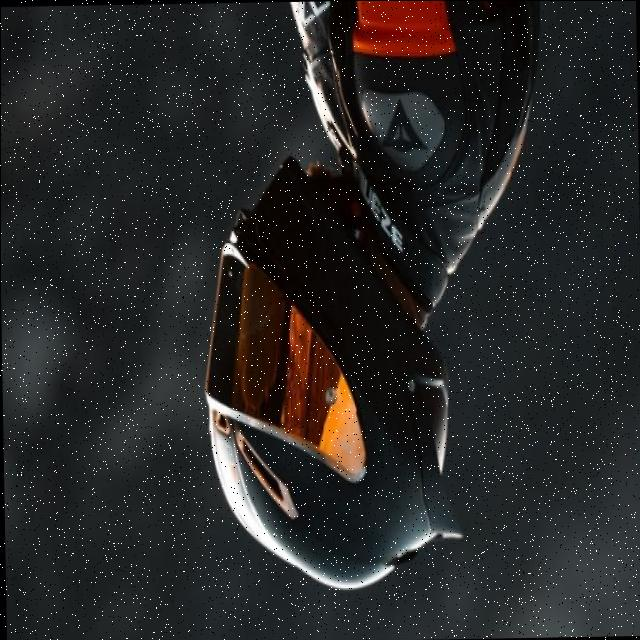Helm: (195, 138, 476, 602)
